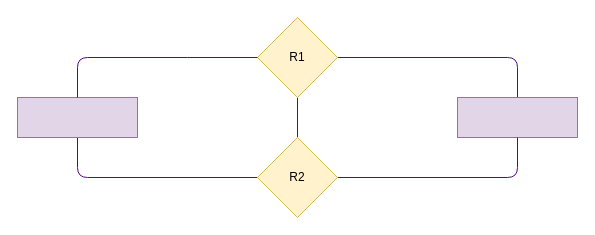
Some shapes in this 595 by 235 pixel diagram are drawn without their labels. The centre of each missing label's shape, as x and y in pixels:
E1: the point at 77,117
E2: the point at 517,117
